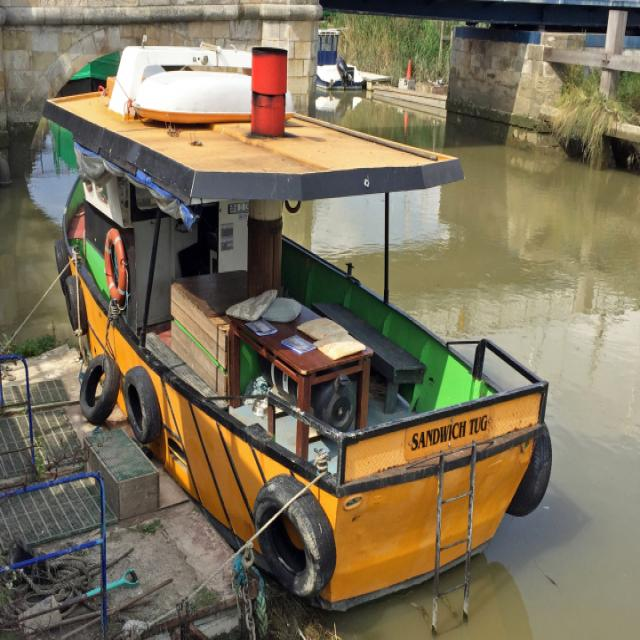tugboat: (37, 44, 561, 628)
